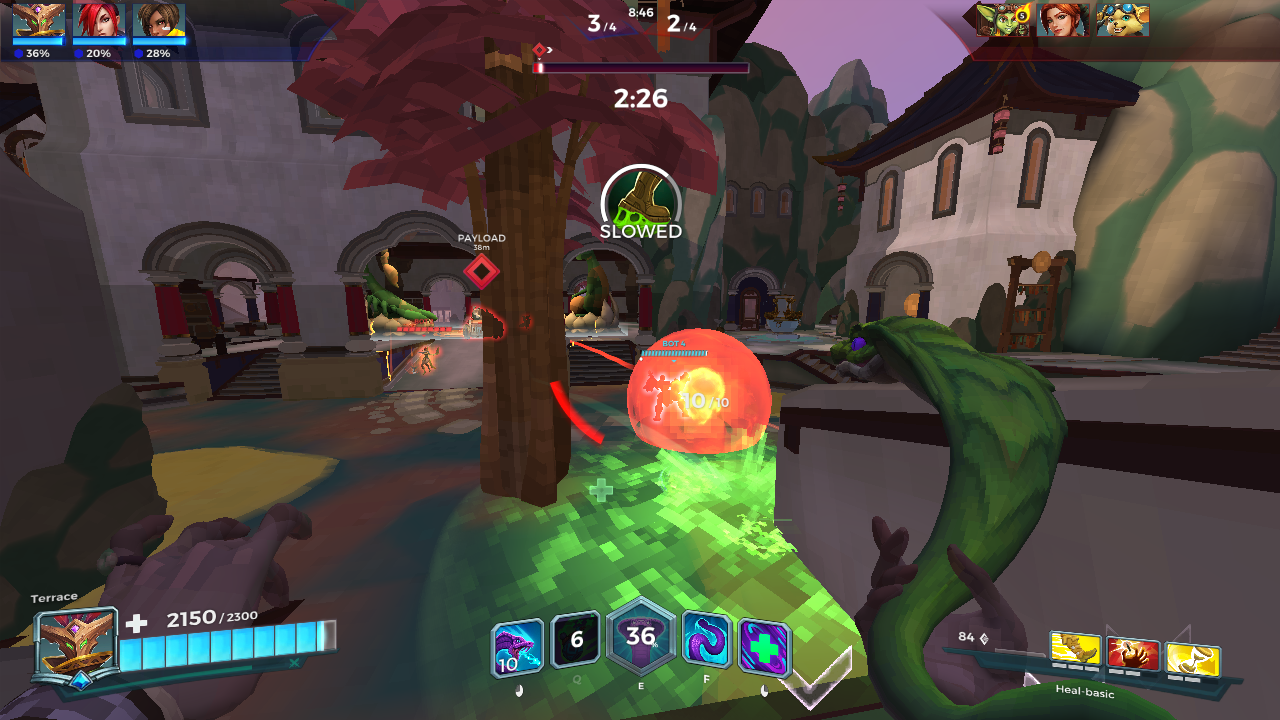model: (417, 336, 435, 372), (520, 310, 530, 330)
